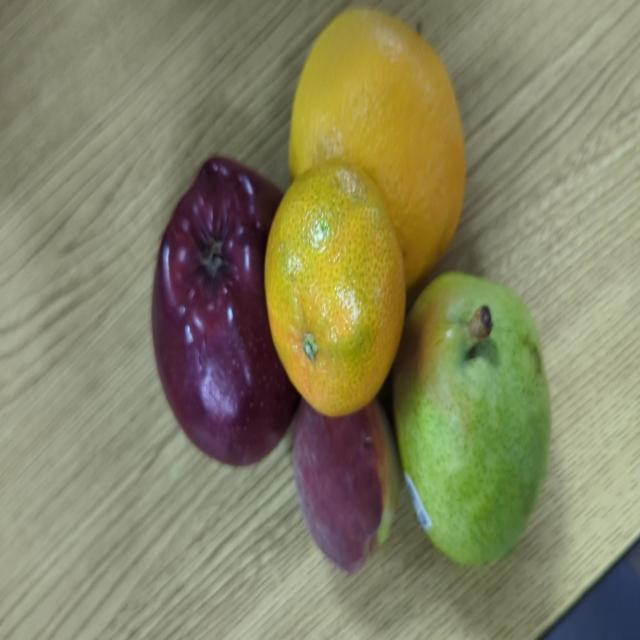Apel Merah: (150, 144, 296, 472)
Jeruk: (288, 0, 473, 257)
Jeruk Mandarin: (264, 166, 410, 415)
Persik: (290, 387, 403, 577)
Pir: (401, 263, 552, 569)
